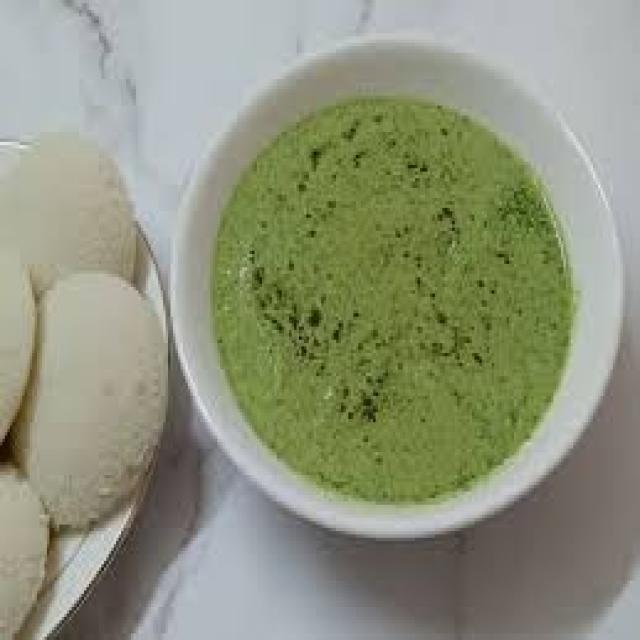idly: (12, 271, 166, 525), (0, 132, 133, 294), (0, 462, 47, 637), (0, 254, 35, 442)
puthina chutney: (201, 97, 588, 494)
